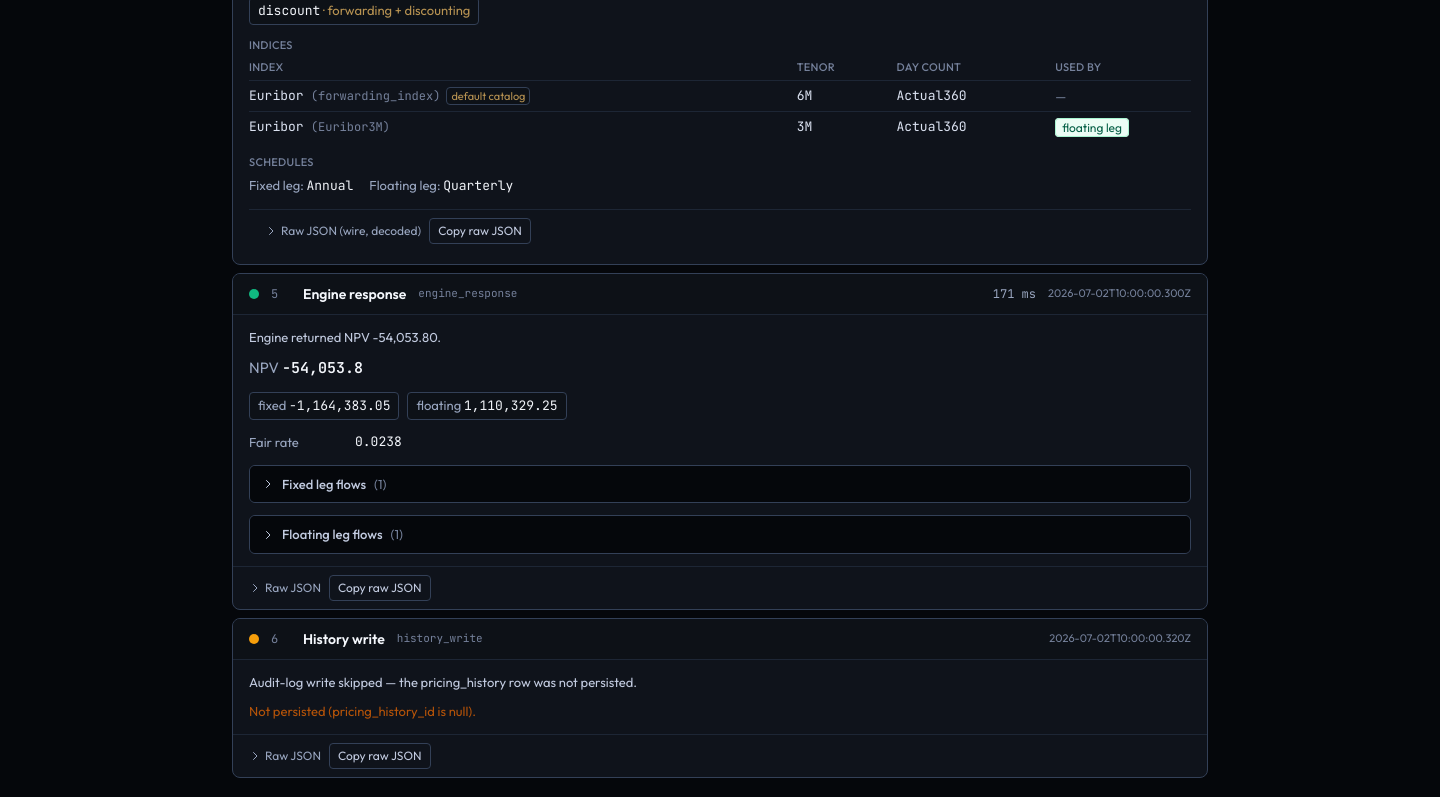
Scenario: Investigate page (pipeline inspector redesign) › shows NPV, per-leg NPVs, fair rate and a collapsed flows table that expands
The width and height of the screenshot is (1440, 797).
(page scrolled)
Check: the text with test id "engine-response-npv" reads "-54,053.8", box [282, 358, 363, 378]
Check: the list with test id "leg-npvs" shows "fixed", box [258, 397, 286, 413]
What coordinates should you click on to do the following:
click the button with test id "flows-toggle" showing "Floating leg flows (1)"
I would click on:
 (316, 534)
Its box is [250, 516, 1190, 553].
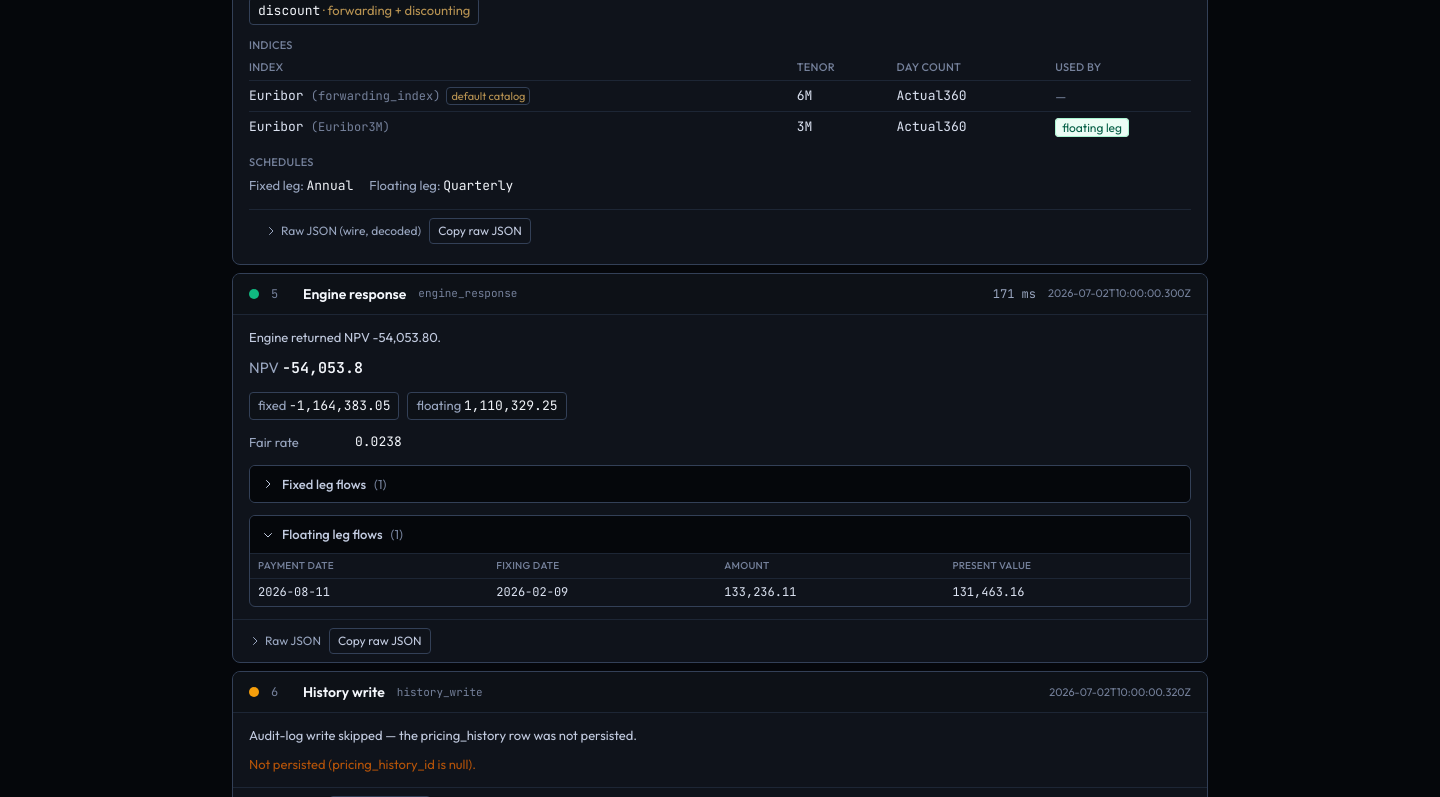
Check: the table with test id "flows-table" shows "2026-08-11", box [258, 584, 330, 600]
Check: the table with test id "flows-table" shows "133,236.11", box [724, 584, 796, 600]
